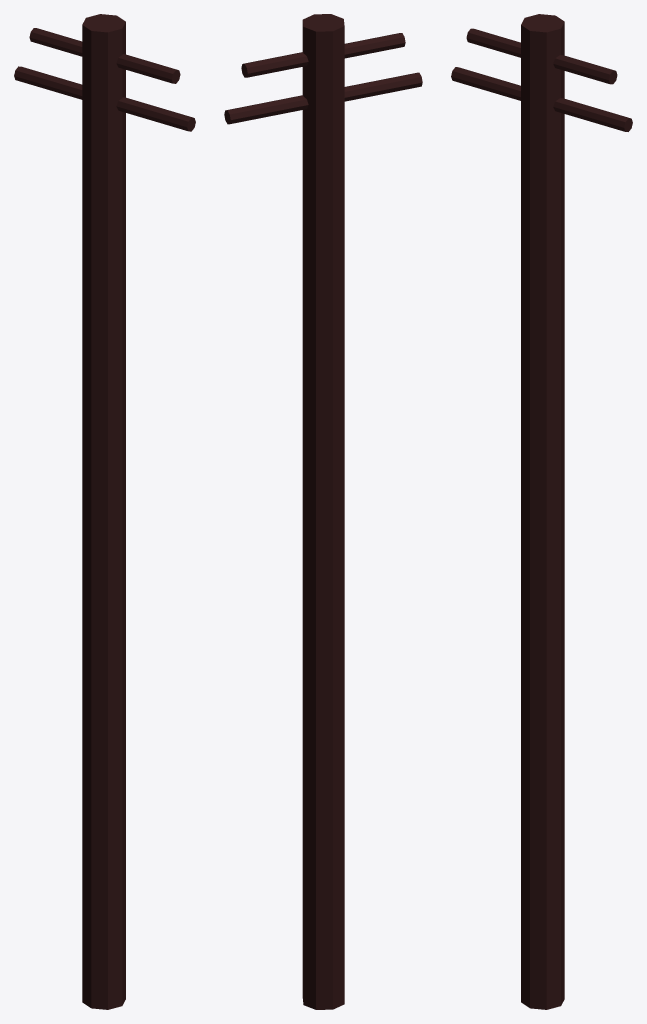
The model's file is cylinder.012_material.150_0_lev1.glb.
3 renders of one model, left to right at view 1: azimuth 90°, elevation 25°; view 2: azimuth 150°, elevation 25°; view 3: azimuth 270°, elevation 25°, orthographic.
Visible parts, largest first — view 1: cylinder.012_material.150_0_lev1; view 2: cylinder.012_material.150_0_lev1; view 3: cylinder.012_material.150_0_lev1.
Boxes of the visible parts, x1,y1,x2,y2 form: cylinder.012_material.150_0_lev1: (14, 14, 195, 1009); cylinder.012_material.150_0_lev1: (224, 14, 422, 1009); cylinder.012_material.150_0_lev1: (451, 14, 632, 1009).
Bounding box in the file's own units: 0.0665 × 0.5357 × 0.0903.
